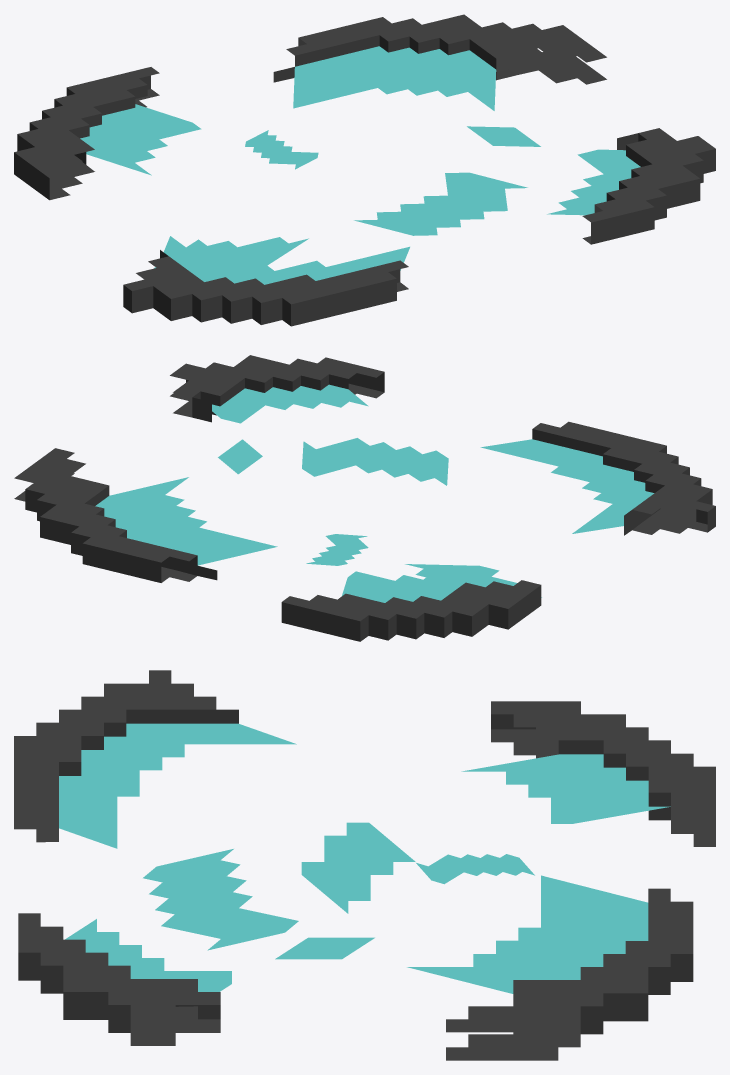
The model's file is LustereczkoPopękane.fbx.
3 views of the same model, one above another, from view 1: azimuth 30°, elevation 25°; view 2: azimuth 150°, elevation 25°; view 3: azimuth 270°, elevation 25° (orthographic). The views are drawn at different scales.
Visible parts, largest first — view 1: Circle.015; view 2: Circle.015; view 3: Circle.015.
Part boxes in pixels (x1,y1,x2,y2): Circle.015: (14,14,715,326); Circle.015: (14,355,715,641); Circle.015: (14,670,715,1060).
Bounding box in the file's own units: 353 × 42.21 × 286.
